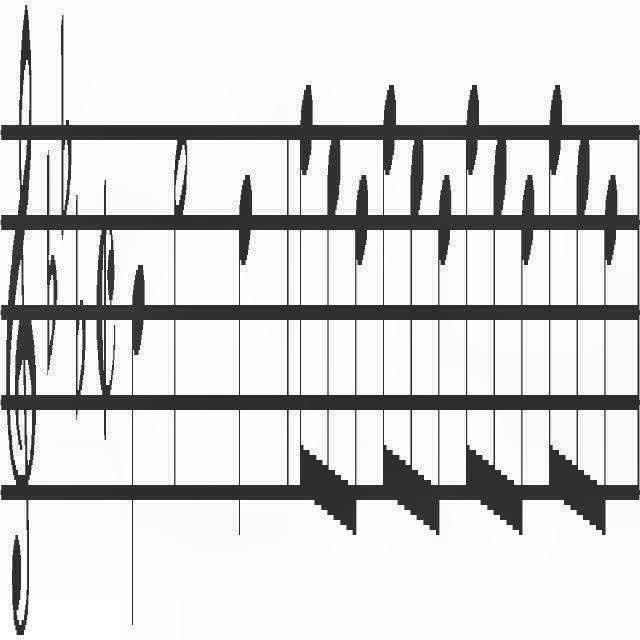Bass-clef: (0, 0, 40, 640)
Bemol: (53, 0, 75, 260), (68, 172, 88, 432), (41, 150, 60, 378)
Eighth-note: (294, 78, 318, 542), (375, 50, 397, 536), (516, 157, 540, 589), (464, 64, 484, 568), (432, 165, 456, 580), (572, 108, 592, 564), (490, 100, 510, 536), (547, 50, 565, 532), (350, 144, 370, 568), (600, 144, 620, 568), (324, 85, 342, 532), (408, 79, 424, 565)
Half-note: (170, 92, 196, 508)
Quarter-note: (127, 264, 149, 640), (236, 149, 256, 546)
